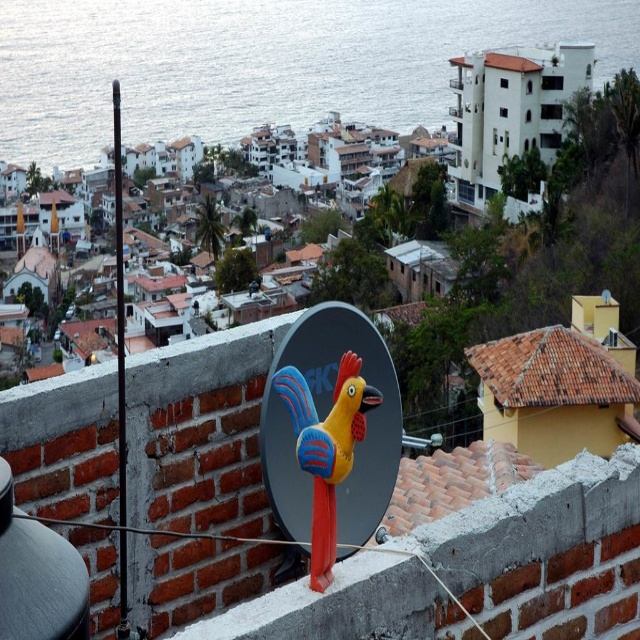Chicken: (273, 347, 380, 486)
